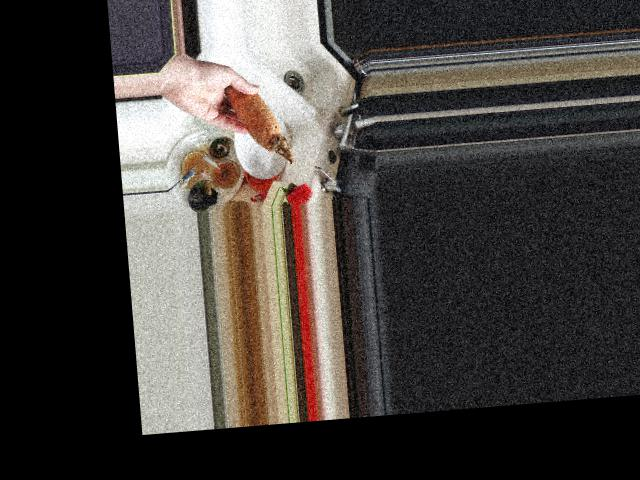sweet_potato: (219, 74, 294, 171)
